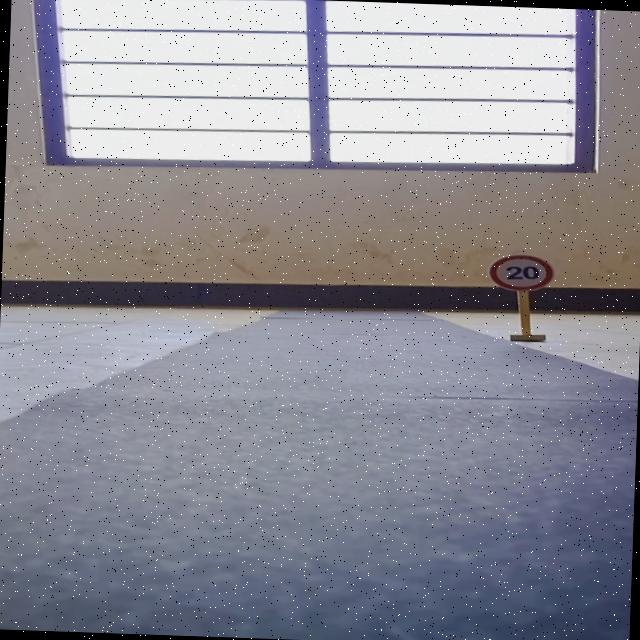Speed20: (480, 253, 558, 292)
